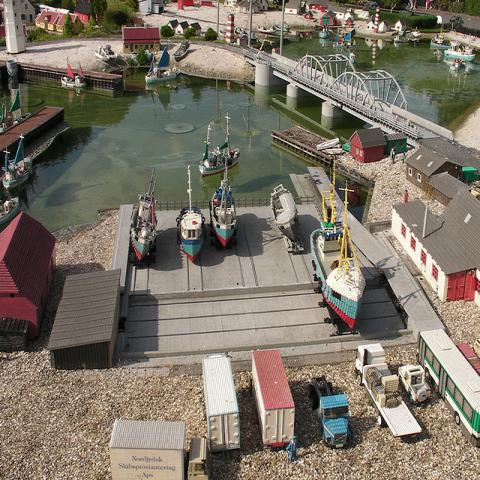bus: (415, 326, 479, 451)
truck: (352, 341, 423, 438), (108, 419, 214, 479), (250, 348, 296, 448), (202, 355, 241, 453), (307, 376, 351, 447), (396, 362, 434, 406)
